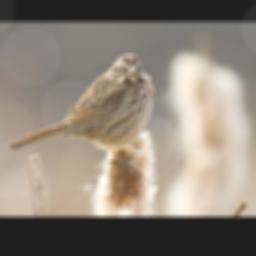Sparrow: (5, 52, 156, 177)
